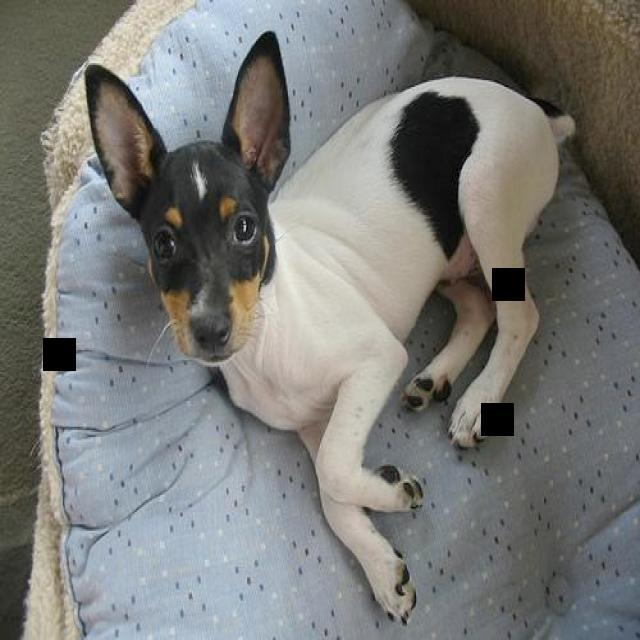adult_dog: (74, 28, 578, 622)
